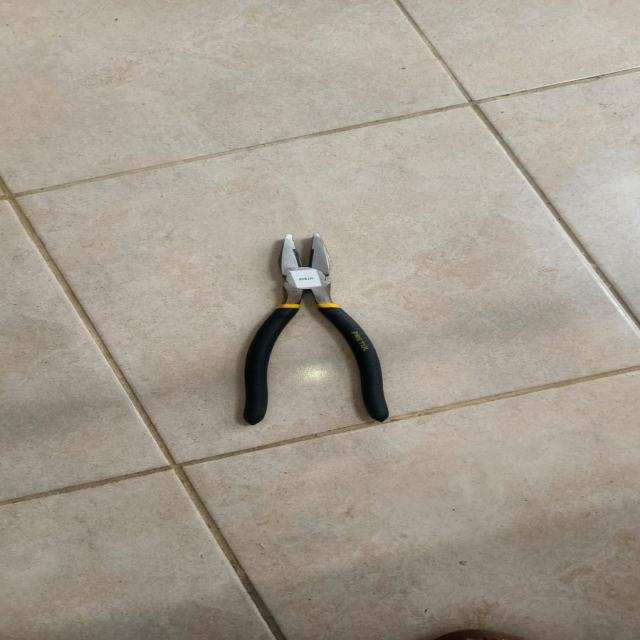alicate: (240, 224, 390, 440)
